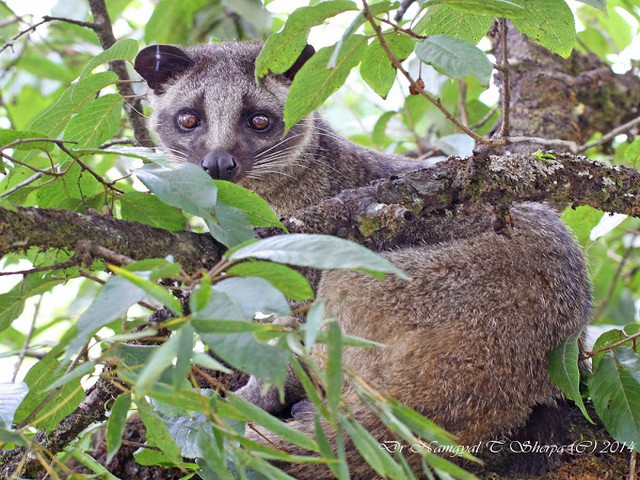civet: (131, 41, 596, 476)
